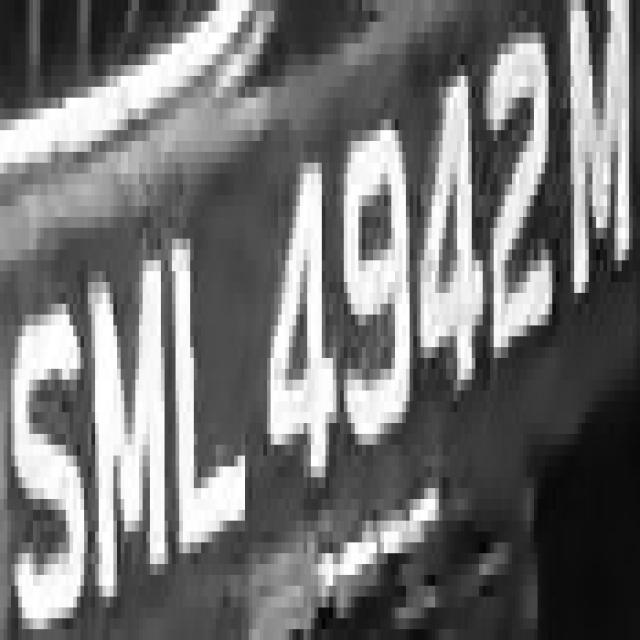2: (483, 22, 556, 369)
4: (406, 54, 494, 402), (260, 141, 340, 499)
9: (336, 87, 421, 477)
L: (172, 206, 252, 553)
M: (88, 238, 164, 608), (563, 0, 640, 304)
S: (0, 271, 88, 640)
